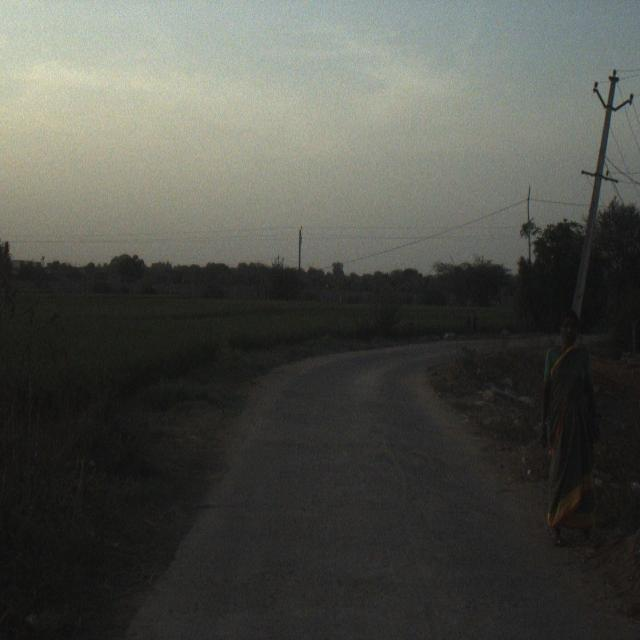high: (525, 296, 623, 567)
